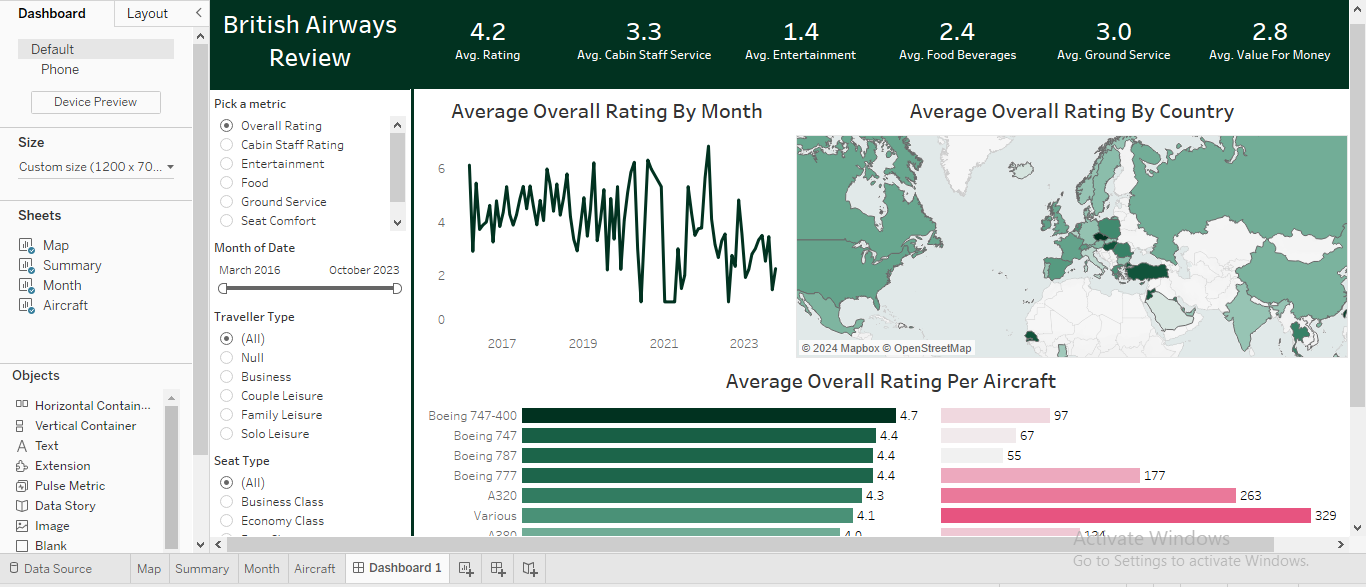

This screenshot's page, from the dashboard's own definition file:
{"tool":"tableau","page":{"name":"Dashboard 1","canvas":[1200,700],"ordinal":0},"visuals":[{"type":"text","box":[0,0,200,100]},{"type":"blank","box":[201,99,3,581]},{"type":"parameter","param":"[Parameters].[Parameter 1]","box":[0,101,200,144]},{"type":"worksheet","title":"Month","mark":"Automatic","rows":["Calculation_254171909632925696"],"cols":["date"],"box":[212,102,370,266]},{"type":"worksheet","title":"Map","mark":"Automatic","box":[586,102,552,266]},{"type":"filter","title":"Month","param":"[federated.0yslech1l5j6az1c3t8em00ij6jp].[tmn:date:qk]","box":[0,245,200,69]},{"type":"filter","title":"Month","param":"[federated.0yslech1l5j6az1c3t8em00ij6jp].[none:traveller_type:nk]","box":[0,314,200,144]},{"type":"worksheet","title":"Aircraft","mark":"Automatic","rows":["Calculation_687080423856447488"],"cols":["Calculation_254171909632925696","ba_reviews.csv_A4DC85D17A0649E0A80DA027ED054A1C"],"box":[212,372,938,308]},{"type":"filter","title":"Month","param":"[federated.0yslech1l5j6az1c3t8em00ij6jp].[none:seat_type:nk]","box":[0,458,200,127]},{"type":"filter","title":"Month","param":"[federated.0yslech1l5j6az1c3t8em00ij6jp].[none:Calculation_687080423856447488:nk","box":[0,585,200,52]},{"type":"filter","title":"Month","param":"[federated.0yslech1l5j6az1c3t8em00ij6jp].[none:Continent:nk]","box":[0,637,200,52]}]}

Visuals, with their boxes on the page's 1200x700 design canvas (x1, y1, x2, y2). These are canvas units, not pixel positions in the 1366x587 screenshot, which may show the page scaled, cropped or inside an application window:
text: <region>0, 0, 200, 100</region>
blank: <region>201, 99, 204, 680</region>
parameter: <region>0, 101, 200, 245</region>
"Month" worksheet: <region>212, 102, 582, 368</region>
"Map" worksheet: <region>586, 102, 1138, 368</region>
"Month" filter: <region>0, 245, 200, 314</region>
"Month" filter: <region>0, 314, 200, 458</region>
"Aircraft" worksheet: <region>212, 372, 1150, 680</region>
"Month" filter: <region>0, 458, 200, 585</region>
"Month" filter: <region>0, 585, 200, 637</region>
"Month" filter: <region>0, 637, 200, 689</region>
